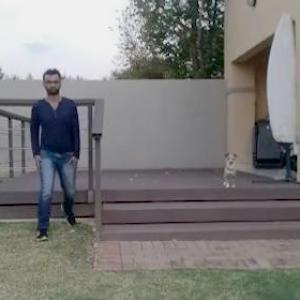follow: (29, 68, 80, 232)
